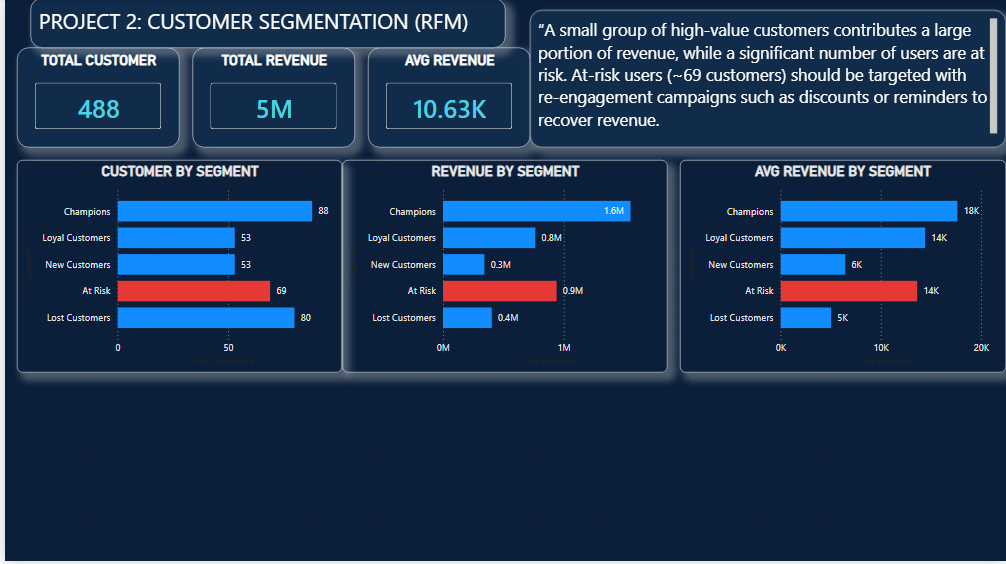

Layout of this report page (visuals, bound fields, positions):
{"tool":"powerbi","page":{"name":"Page 1","canvas":[1280,720],"ordinal":0},"visuals":[{"type":"cardVisual","title":"TOTAL CUSTOMER","fields":{"Data":["rfm_output (1).Total Customers"]},"box":[16,64,208,128],"z":0},{"type":"cardVisual","title":"TOTAL REVENUE","fields":{"Data":["rfm_output (1).Total Revenue"]},"box":[240,64,208,128],"z":1},{"type":"cardVisual","title":"AVG REVENUE","fields":{"Data":["rfm_output (1).Avg Revenue"]},"box":[464,64,208,128],"z":2},{"type":"barChart","title":"CUSTOMER BY SEGMENT","fields":{"Category":["Segment Lookup.Segment"],"Y":["rfm_output (1).Total Customers"]},"box":[16,208,416,272],"z":3},{"type":"barChart","title":"REVENUE BY SEGMENT","fields":{"Category":["Segment Lookup.Segment"],"Y":["rfm_output (1).Total Revenue"]},"box":[432,208,416,272],"z":4},{"type":"barChart","title":"AVG REVENUE BY SEGMENT","fields":{"Category":["Segment Lookup.Segment"],"Y":["rfm_output (1).Avg Revenue"]},"box":[864,208,416,272],"z":5},{"type":"textbox","box":[672,16,608,176],"z":6},{"type":"textbox","box":[32,0,608,64],"z":7}]}

Visuals, with their boxes in screenshot pixels (x1, y1, x2, y2), scaled from the page's 1280x720 canvas onto the 1006x564 screenshot:
"TOTAL CUSTOMER" cardVisual: <bbox>13, 50, 176, 150</bbox>
"TOTAL REVENUE" cardVisual: <bbox>189, 50, 352, 150</bbox>
"AVG REVENUE" cardVisual: <bbox>365, 50, 528, 150</bbox>
"CUSTOMER BY SEGMENT" barChart: <bbox>13, 163, 340, 376</bbox>
"REVENUE BY SEGMENT" barChart: <bbox>340, 163, 666, 376</bbox>
"AVG REVENUE BY SEGMENT" barChart: <bbox>679, 163, 1005, 376</bbox>
textbox: <bbox>528, 13, 1005, 150</bbox>
textbox: <bbox>25, 0, 503, 50</bbox>
